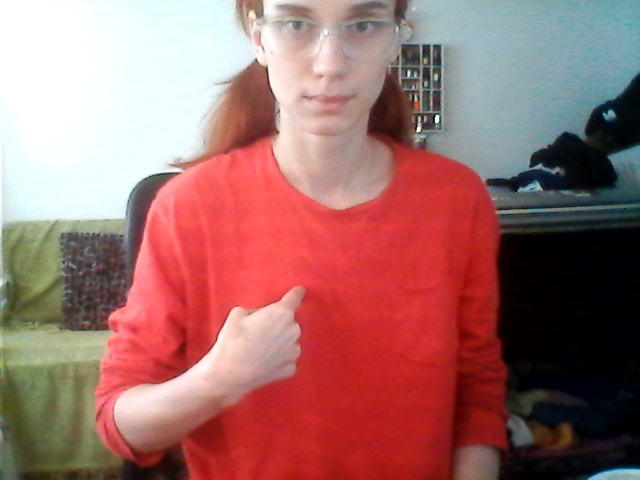ja: (191, 267, 365, 403)
